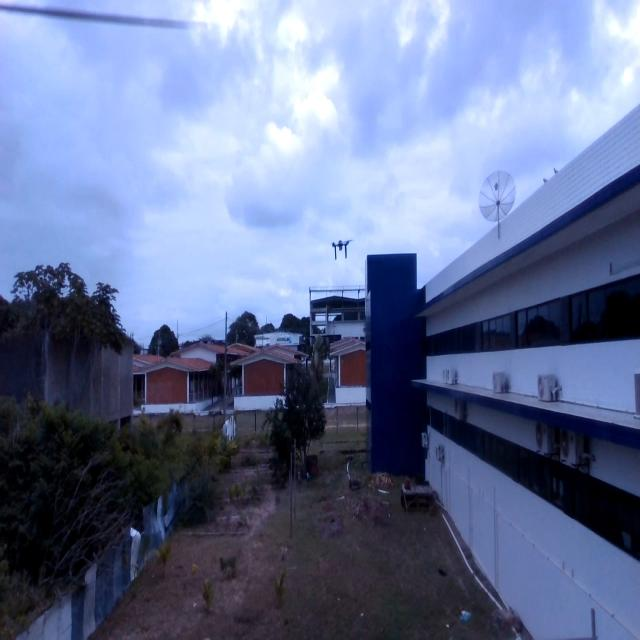-uav-: (324, 231, 358, 273)
